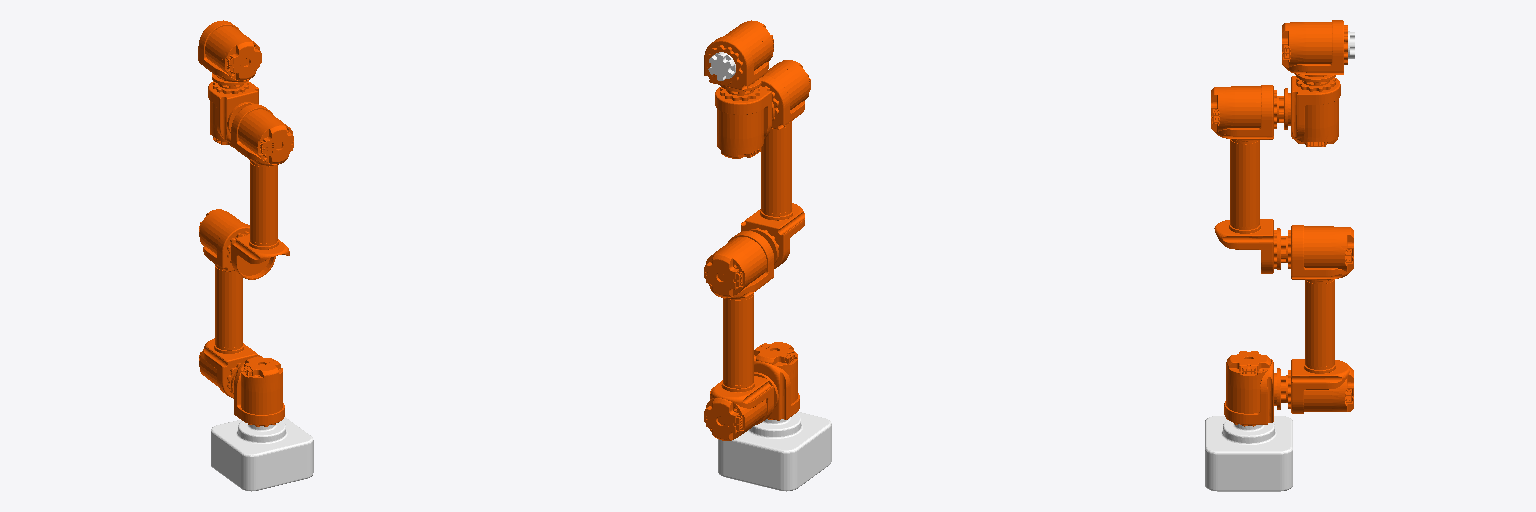
The robot description file, URDF, robot "gluon_6l3_description":
<?xml version="1.0" encoding="utf-8"?>
<!-- This URDF was automatically created by SolidWorks to URDF Exporter! Originally created by [author] ([email redacted]) 
     Commit Version: 1.5.1-0-g916b5db  Build Version: 1.5.7152.31018
     For more information, please see http://wiki.ros.org/sw_urdf_exporter -->
<robot
  name="gluon_6l3_description">
  <link
    name="base_link">
    <inertial>
      <origin
        xyz="6.00214302719138E-11 -2.03592043663259E-18 0.0271404483614374"
        rpy="0 0 0" />
      <mass
        value="0.524001417146026" />
      <inertia
        ixx="0.000535467122847014"
        ixy="5.80561098039657E-10"
        ixz="1.91837356095828E-11"
        iyy="0.000535467082580035"
        iyz="5.33104892292796E-20"
        izz="0.000799852045598815" />
    </inertial>
    <visual>
      <origin
        xyz="0 0 0"
        rpy="0 0 0" />
      <geometry>
        <mesh
          filename="package://gluon_6l3_description/meshes/base_link.STL" />
      </geometry>
      <material
        name="">
        <color
          rgba="1 1 1 1" />
      </material>
    </visual>
    <collision>
      <origin
        xyz="0 0 0"
        rpy="0 0 0" />
      <geometry>
        <mesh
          filename="package://gluon_6l3_description/meshes/base_link.STL" />
      </geometry>
    </collision>
  </link>
  <link
    name="shoulder_link">
    <inertial>
      <origin
        xyz="6.4504988678293E-06 0.0138491130559665 -0.0114038936020913"
        rpy="0 0 0" />
      <mass
        value="0.0820185009306671" />
      <inertia
        ixx="3.02771647844208E-05"
        ixy="4.98647342619796E-10"
        ixz="1.02799620338453E-09"
        iyy="3.14768364536352E-05"
        iyz="-7.94964924528223E-06"
        izz="2.79887356737968E-05" />
    </inertial>
    <visual>
      <origin
        xyz="0 0 0"
        rpy="0 0 0" />
      <geometry>
        <mesh
          filename="package://gluon_6l3_description/meshes/shoulder_link.STL" />
      </geometry>
      <material
        name="Orange">
        <color
          rgba="1.0 0.423529411765 0.0392156862745 1.0" />
	  </material>
    </visual>
    <collision>
      <origin
        xyz="0 0 0"
        rpy="0 0 0" />
      <geometry>
        <mesh
          filename="package://gluon_6l3_description/meshes/shoulder_link.STL" />
      </geometry>
    </collision>
  </link>
  <joint
    name="shoulder_pan_joint"
    type="revolute">
    <origin
      xyz="0 0 0.10503"
      rpy="0 0 0" />
    <parent
      link="base_link" />
    <child
      link="shoulder_link" />
    <axis
      xyz="0 0 1" />
    <limit
      lower="-3.14"
      upper="3.14"
      effort="150"
      velocity="3.15" />
  </joint>
  <link
    name="upper_arm_link">
    <inertial>
      <origin
        xyz="5.76283818191725E-17 -0.00796192925635632 0.0872101279339996"
        rpy="0 0 0" />
      <mass
        value="0.23495065778678" />
      <inertia
        ixx="0.000149085261775553"
        ixy="-1.19688965699115E-19"
        ixz="-9.97294685179312E-10"
        iyy="0.000144508403554305"
        iyz="-1.30432354342531E-19"
        izz="7.22034259223348E-05" />
    </inertial>
    <visual>
      <origin
        xyz="0 0 0"
        rpy="0 0 0" />
      <geometry>
        <mesh
          filename="package://gluon_6l3_description/meshes/upper_arm_link.STL" />
      </geometry>
      <material
        name="Orange">
        <color
          rgba="1.0 0.423529411765 0.0392156862745 1.0" />
	  </material>
    </visual>
    <collision>
      <origin
        xyz="0 0 0"
        rpy="0 0 0" />
      <geometry>
        <mesh
          filename="package://gluon_6l3_description/meshes/upper_arm_link.STL" />
      </geometry>
    </collision>
  </link>
  <joint
    name="shoulder_lift_joint"
    type="revolute">
    <origin
      xyz="0 0.080088 0"
      rpy="0 0 0" />
    <parent
      link="shoulder_link" />
    <child
      link="upper_arm_link" />
    <axis
      xyz="0 1 0" />
    <limit
      lower="-3.14"
      upper="3.14"
      effort="150"
      velocity="3.15" />
  </joint>
  <link
    name="forearm_link">
    <inertial>
      <origin
        xyz="-2.28721263676364E-06 0.0110440131133395 0.0921174993010334"
        rpy="0 0 0" />
      <mass
        value="0.238894459849097" />
      <inertia
        ixx="0.000149170706200484"
        ixy="3.25881137569095E-10"
        ixz="1.00738300511502E-09"
        iyy="0.000144556914762174"
        iyz="3.04659433394445E-10"
        izz="7.22747674688485E-05" />
    </inertial>
    <visual>
      <origin
        xyz="0 0 0"
        rpy="0 0 0" />
      <geometry>
        <mesh
          filename="package://gluon_6l3_description/meshes/forearm_link.STL" />
      </geometry>
      <material
        name="Orange">
        <color
          rgba="1.0 0.423529411765 0.0392156862745 1.0" />
	  </material>
    </visual>
    <collision>
      <origin
        xyz="0 0 0"
        rpy="0 0 0" />
      <geometry>
        <mesh
          filename="package://gluon_6l3_description/meshes/forearm_link.STL" />
      </geometry>
    </collision>
  </link>
  <joint
    name="elbow_joint"
    type="revolute">
    <origin
      xyz="0 -0.084515 0.17442"
      rpy="0 0 0" />
    <parent
      link="upper_arm_link" />
    <child
      link="forearm_link" />
    <axis
      xyz="0 1 0" />
    <limit
      lower="-3.14"
      upper="3.14"
      effort="150"
      velocity="3.15" />
  </joint>
  <link
    name="wrist_1_link">
    <inertial>
      <origin
        xyz="6.4504988676471E-06 0.0707765705043197 0.0153497230747068"
        rpy="0 0 0" />
      <mass
        value="0.082018500930667" />
      <inertia
        ixx="3.02771647844206E-05"
        ixy="-4.98647342150018E-10"
        ixz="-1.02799620384103E-09"
        iyy="3.11501379832757E-05"
        iyz="-7.94964924528221E-06"
        izz="2.83154341441561E-05" />
    </inertial>
    <visual>
      <origin
        xyz="0 0 0"
        rpy="0 0 0" />
      <geometry>
        <mesh
          filename="package://gluon_6l3_description/meshes/wrist_1_link.STL" />
      </geometry>
      <material
        name="Orange">
        <color
          rgba="1.0 0.423529411765 0.0392156862745 1.0" />
	  </material>
    </visual>
    <collision>
      <origin
        xyz="0 0 0"
        rpy="0 0 0" />
      <geometry>
        <mesh
          filename="package://gluon_6l3_description/meshes/wrist_1_link.STL" />
      </geometry>
    </collision>
  </link>
  <joint
    name="wrist_1_joint"
    type="revolute">
    <origin
      xyz="0 0 0.17442"
      rpy="0 0 0" />
    <parent
      link="forearm_link" />
    <child
      link="wrist_1_link" />
    <axis
      xyz="0 1 0" />
    <limit
      lower="-3.14"
      upper="3.14"
      effort="28"
      velocity="3.2" />
  </joint>
  <link
    name="wrist_2_link">
    <inertial>
      <origin
        xyz="-7.2147559877832E-06 0.0127550304764162 0.0696733807918641"
        rpy="0 0 0" />
      <mass
        value="0.0733303036590749" />
      <inertia
        ixx="2.96845482915175E-05"
        ixy="1.02799620365497E-09"
        ixz="4.98647342585307E-10"
        iyy="2.73961191808933E-05"
        iyz="-7.94964924528226E-06"
        izz="3.05575214903725E-05" />
    </inertial>
    <visual>
      <origin
        xyz="0 0 0"
        rpy="0 0 0" />
      <geometry>
        <mesh
          filename="package://gluon_6l3_description/meshes/wrist_2_link.STL" />
      </geometry>
      <material
        name="Orange">
        <color
          rgba="1.0 0.423529411765 0.0392156862745 1.0" />
	  </material>
    </visual>
    <collision>
      <origin
        xyz="0 0 0"
        rpy="0 0 0" />
      <geometry>
        <mesh
          filename="package://gluon_6l3_description/meshes/wrist_2_link.STL" />
      </geometry>
    </collision>
  </link>
  <joint
    name="wrist_2_joint"
    type="revolute">
    <origin
      xyz="0 0.080088 0"
      rpy="0 0 0" />
    <parent
      link="wrist_1_link" />
    <child
      link="wrist_2_link" />
    <axis
      xyz="0 0 1" />
    <limit
      lower="-3.14"
      upper="3.14"
      effort="28"
      velocity="3.2" />
  </joint>
  <link
    name="wrist_3_link">
    <inertial>
      <origin
        xyz="5.16911893705007E-18 0.0372485016118171 -1.11022302462516E-16"
        rpy="0 0 0" />
      <mass
        value="0.0086881972715925" />
      <inertia
        ixx="5.92616492903874E-07"
        ixy="-1.90251559713552E-22"
        ixz="-2.11657278394925E-19"
        iyy="9.19314963262971E-07"
        iyz="-1.43193395727718E-23"
        izz="5.92616492903025E-07" />
    </inertial>
    <visual>
      <origin
        xyz="0 0 0"
        rpy="0 0 0" />
      <geometry>
        <mesh
          filename="package://gluon_6l3_description/meshes/wrist_3_link.STL" />
      </geometry>
      <material
        name="default">
        <color
          rgba="1 1 1 1" />
	  </material>
    </visual>
    <collision>
      <origin
        xyz="0 0 0"
        rpy="0 0 0" />
      <geometry>
        <mesh
          filename="package://gluon_6l3_description/meshes/wrist_3_link.STL" />
      </geometry>
    </collision>
  </link>
  <joint
    name="wrist_3_joint"
    type="revolute">
    <origin
      xyz="0 0 0.080088"
      rpy="0 0 0" />
    <parent
      link="wrist_2_link" />
    <child
      link="wrist_3_link" />
    <axis
      xyz="0 1 0" />
    <limit
      lower="-3.14"
      upper="3.14"
      effort="28"
      velocity="3.2" />
  </joint>
  <!--Add tool -->
  <link name="tool0"/>
  <joint name="wrist_3_link-tool0_fixed_joint" type="fixed">
    <origin rpy="-1.57079632679 0 0" xyz="0 0.04436 0"/>
    <parent link="wrist_3_link"/>
    <child link="tool0"/>
  </joint>
</robot>

--- Facts derived from the render (not from the file) ---
Views: 3 orthographic renders of the robot side by side, from view 1: azimuth 30°, elevation 25°; view 2: azimuth 150°, elevation 25°; view 3: azimuth 270°, elevation 25°.
Model gluon_6l3_description with 8 links and 7 joints (6 revolute, 1 fixed), rooted at base_link, posed every joint at zero.
Links seen in each view (by area): view 1: forearm_link, base_link, upper_arm_link, shoulder_link, wrist_2_link, wrist_1_link; view 2: upper_arm_link, forearm_link, base_link, wrist_1_link, wrist_2_link, shoulder_link, wrist_3_link; view 3: upper_arm_link, forearm_link, base_link, shoulder_link, wrist_2_link, wrist_1_link.
Boxes of the visible links, box(x1,y1,x2,y2) form: forearm_link: box(231, 104, 293, 279); base_link: box(211, 417, 313, 491); upper_arm_link: box(199, 209, 260, 398); shoulder_link: box(231, 356, 284, 426); wrist_2_link: box(198, 20, 261, 85); wrist_1_link: box(208, 81, 258, 146); upper_arm_link: box(704, 231, 773, 440); forearm_link: box(741, 60, 810, 268); base_link: box(718, 412, 831, 491); wrist_1_link: box(715, 86, 774, 158); wrist_2_link: box(704, 20, 773, 91); shoulder_link: box(754, 342, 799, 420); wrist_3_link: box(708, 52, 735, 80); upper_arm_link: box(1288, 225, 1353, 413); forearm_link: box(1211, 85, 1287, 273); base_link: box(1205, 416, 1292, 491); shoulder_link: box(1224, 351, 1287, 426); wrist_2_link: box(1282, 20, 1347, 82); wrist_1_link: box(1284, 76, 1340, 146).
Size in the robot's own frame: 0.1 by 0.17 by 0.5618 metres.
7 mesh visuals loaded from 7 distinct referenced files (7 binary STL).